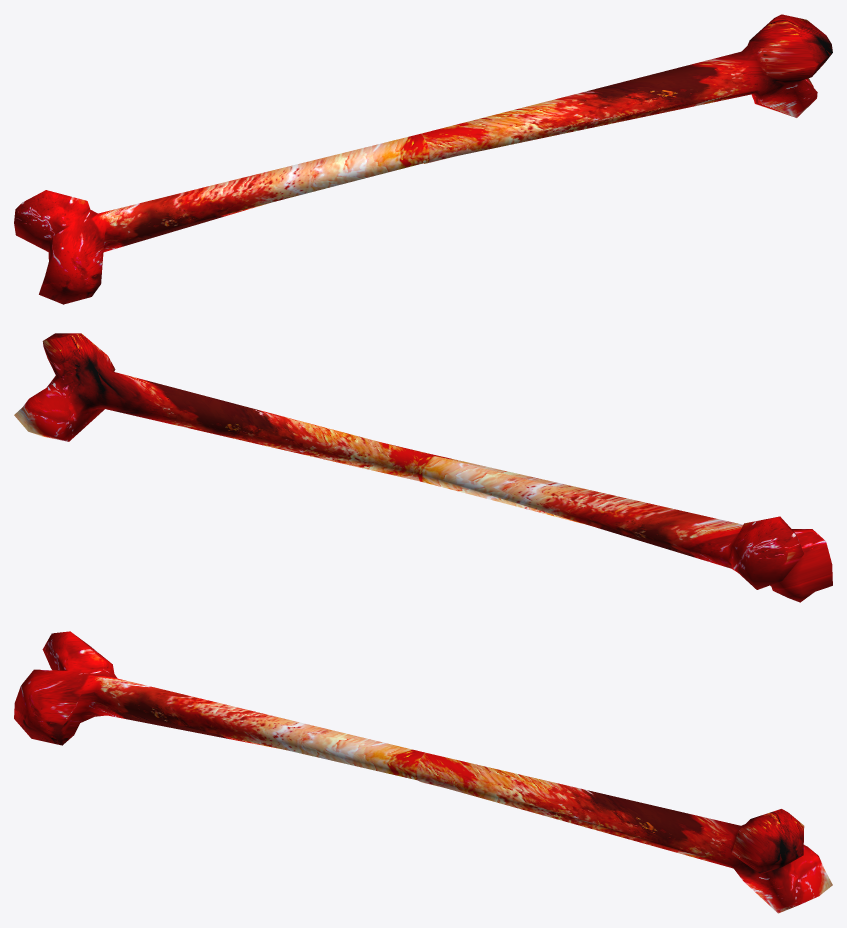
File: gib_bone.fbx
The picture shows the model from 3 angles, top to bottom: view 1: azimuth 30°, elevation 25°; view 2: azimuth 150°, elevation 25°; view 3: azimuth 330°, elevation 25°; orthographic projection.
Visible parts, largest first — view 1: bone_01; view 2: bone_01; view 3: bone_01.
Boxes of the visible parts, x1,y1,x2,y2 form: bone_01: (14, 14, 832, 304); bone_01: (14, 333, 832, 602); bone_01: (14, 631, 832, 913).
Bounding box in the file's own units: 0.4206 × 0.0495 × 0.0496.
